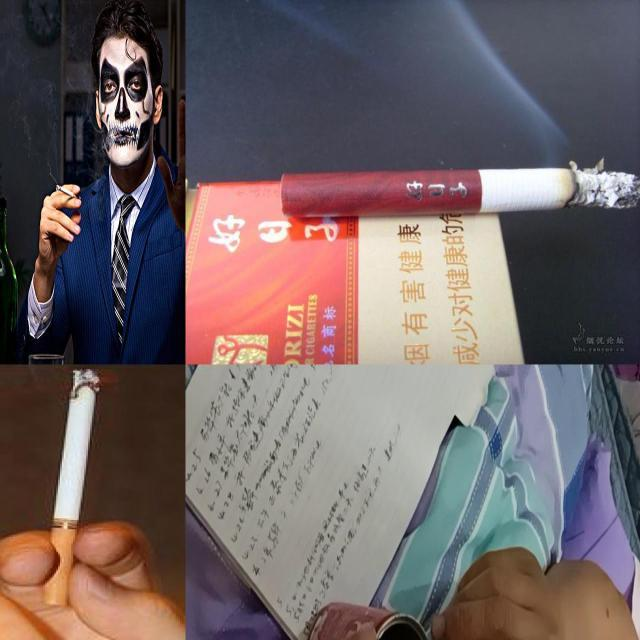smoking: (280, 168, 640, 218), (41, 366, 100, 606), (56, 185, 82, 202)
